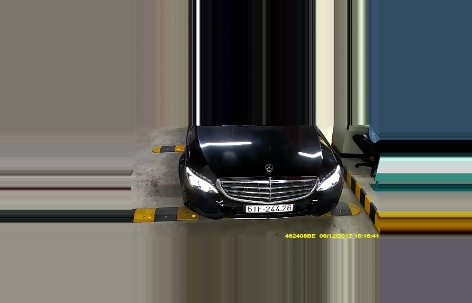plate: (242, 203, 297, 213)
